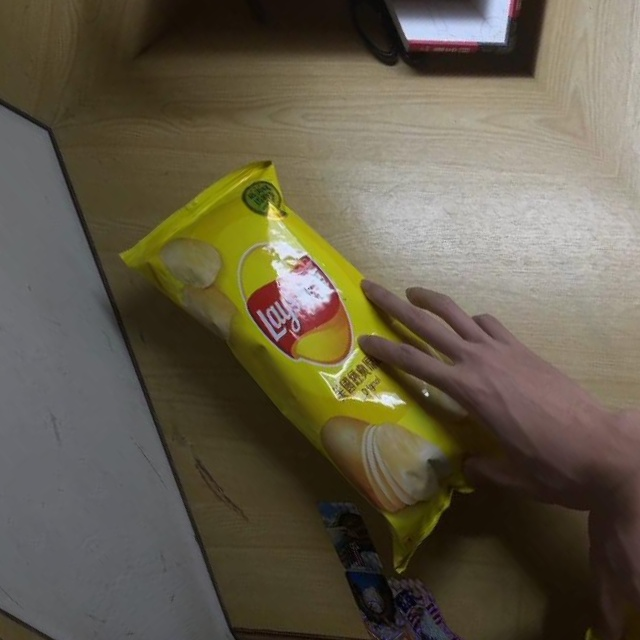Lay-s-original: (117, 128, 542, 581)
